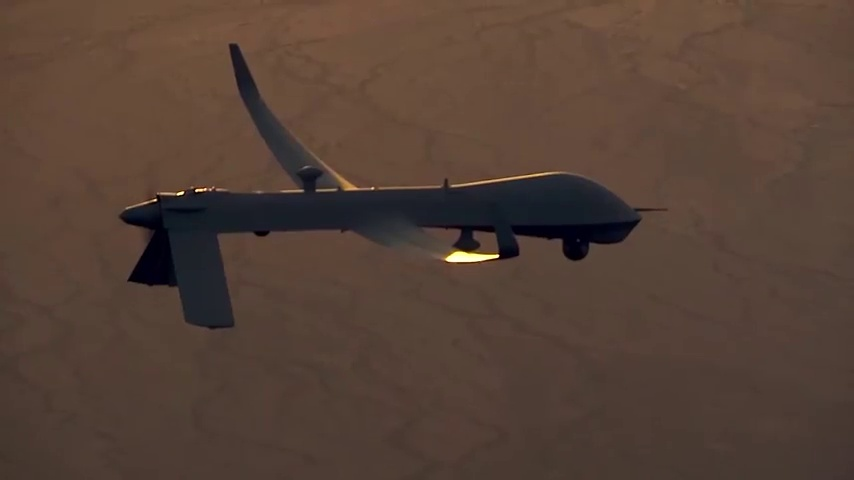military drone: (116, 43, 668, 330)
